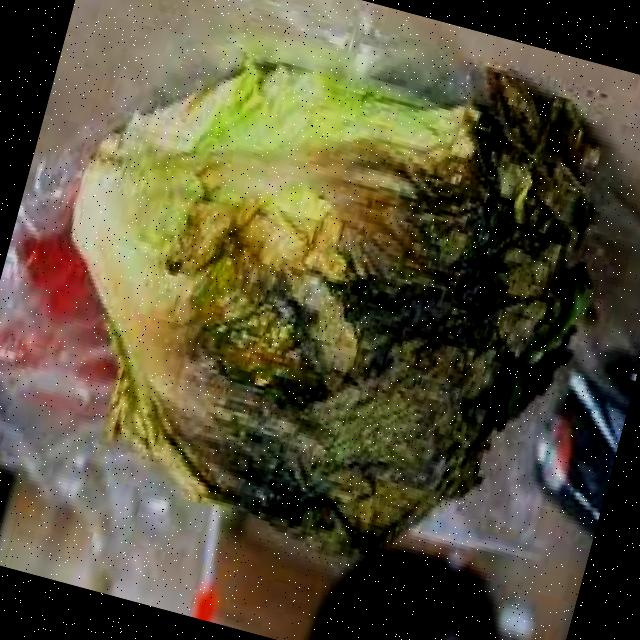Wilt_and_leaf_blight_on_lettuce: (103, 47, 568, 570)
